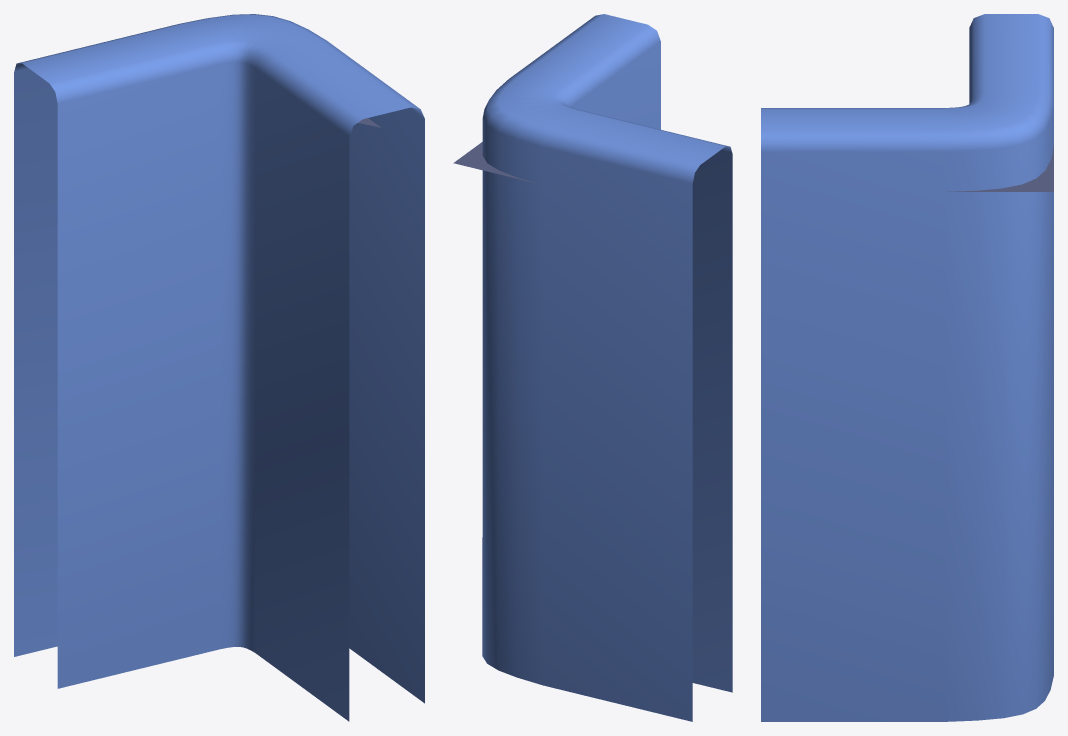
Rendered from Corner_Concave.fbx.
3 renders of one model, left to right at view 1: azimuth 30°, elevation 25°; view 2: azimuth 150°, elevation 25°; view 3: azimuth 270°, elevation 25°, orthographic. The views are drawn at different scales.
Parts seen in each view (by area): view 1: Corner_Concave; view 2: Corner_Concave; view 3: Corner_Concave.
Part boxes in pixels (x1=…): Corner_Concave: x1=14, y1=14, x2=424, y2=721; Corner_Concave: x1=453, y1=14, x2=732, y2=721; Corner_Concave: x1=761, y1=14, x2=1053, y2=721.
Bounding box in the file's own units: 0.5 × 1.1 × 0.5.
